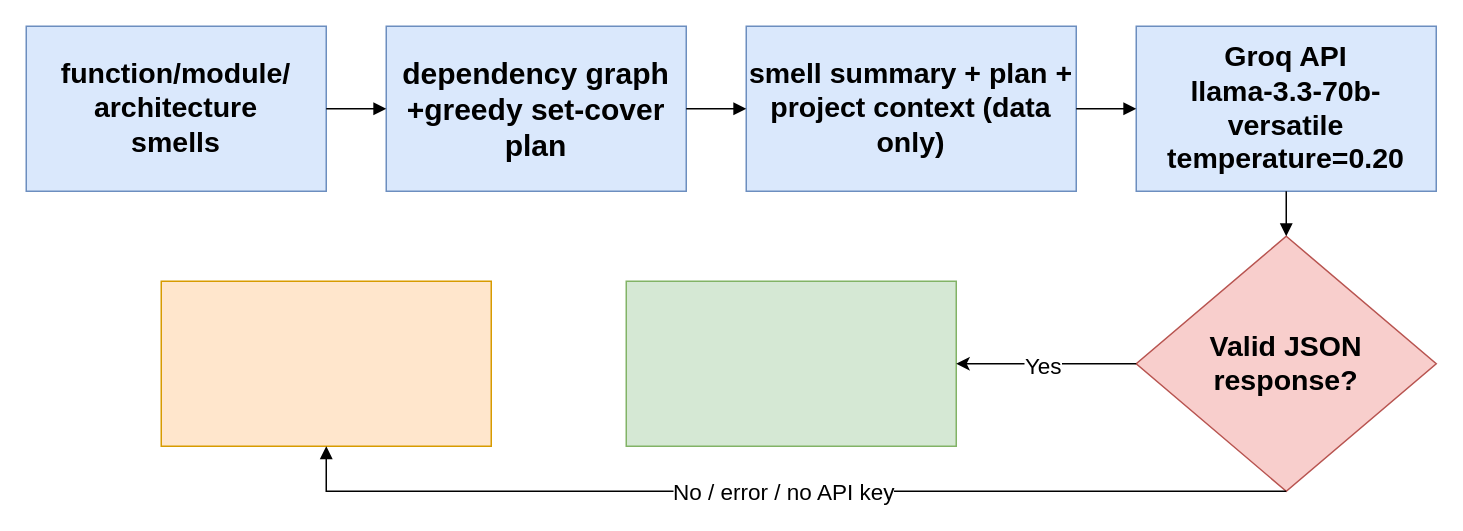
Some shapes in this 1463 by 531 pixel diagram are drawn without their labels. Here are the shapes that lost their labels. From the top down, the centre of each, then its label:
At (325,363): "static analysis- only plan".
At (790,363): "Structured refactor plan rendered in LLM plan box".
